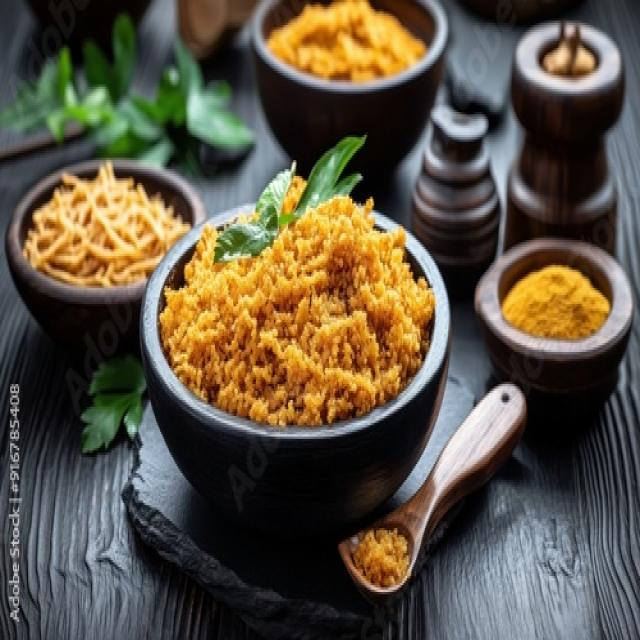UPMA: (160, 197, 434, 425)
